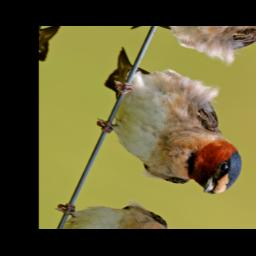Swallow: (72, 46, 256, 209)
